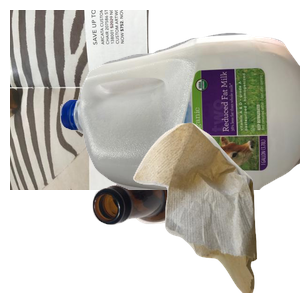glass: (90, 148, 300, 300)
paper: (10, 10, 250, 190)
plastic: (60, 30, 300, 210)
trash: (131, 120, 300, 300)
